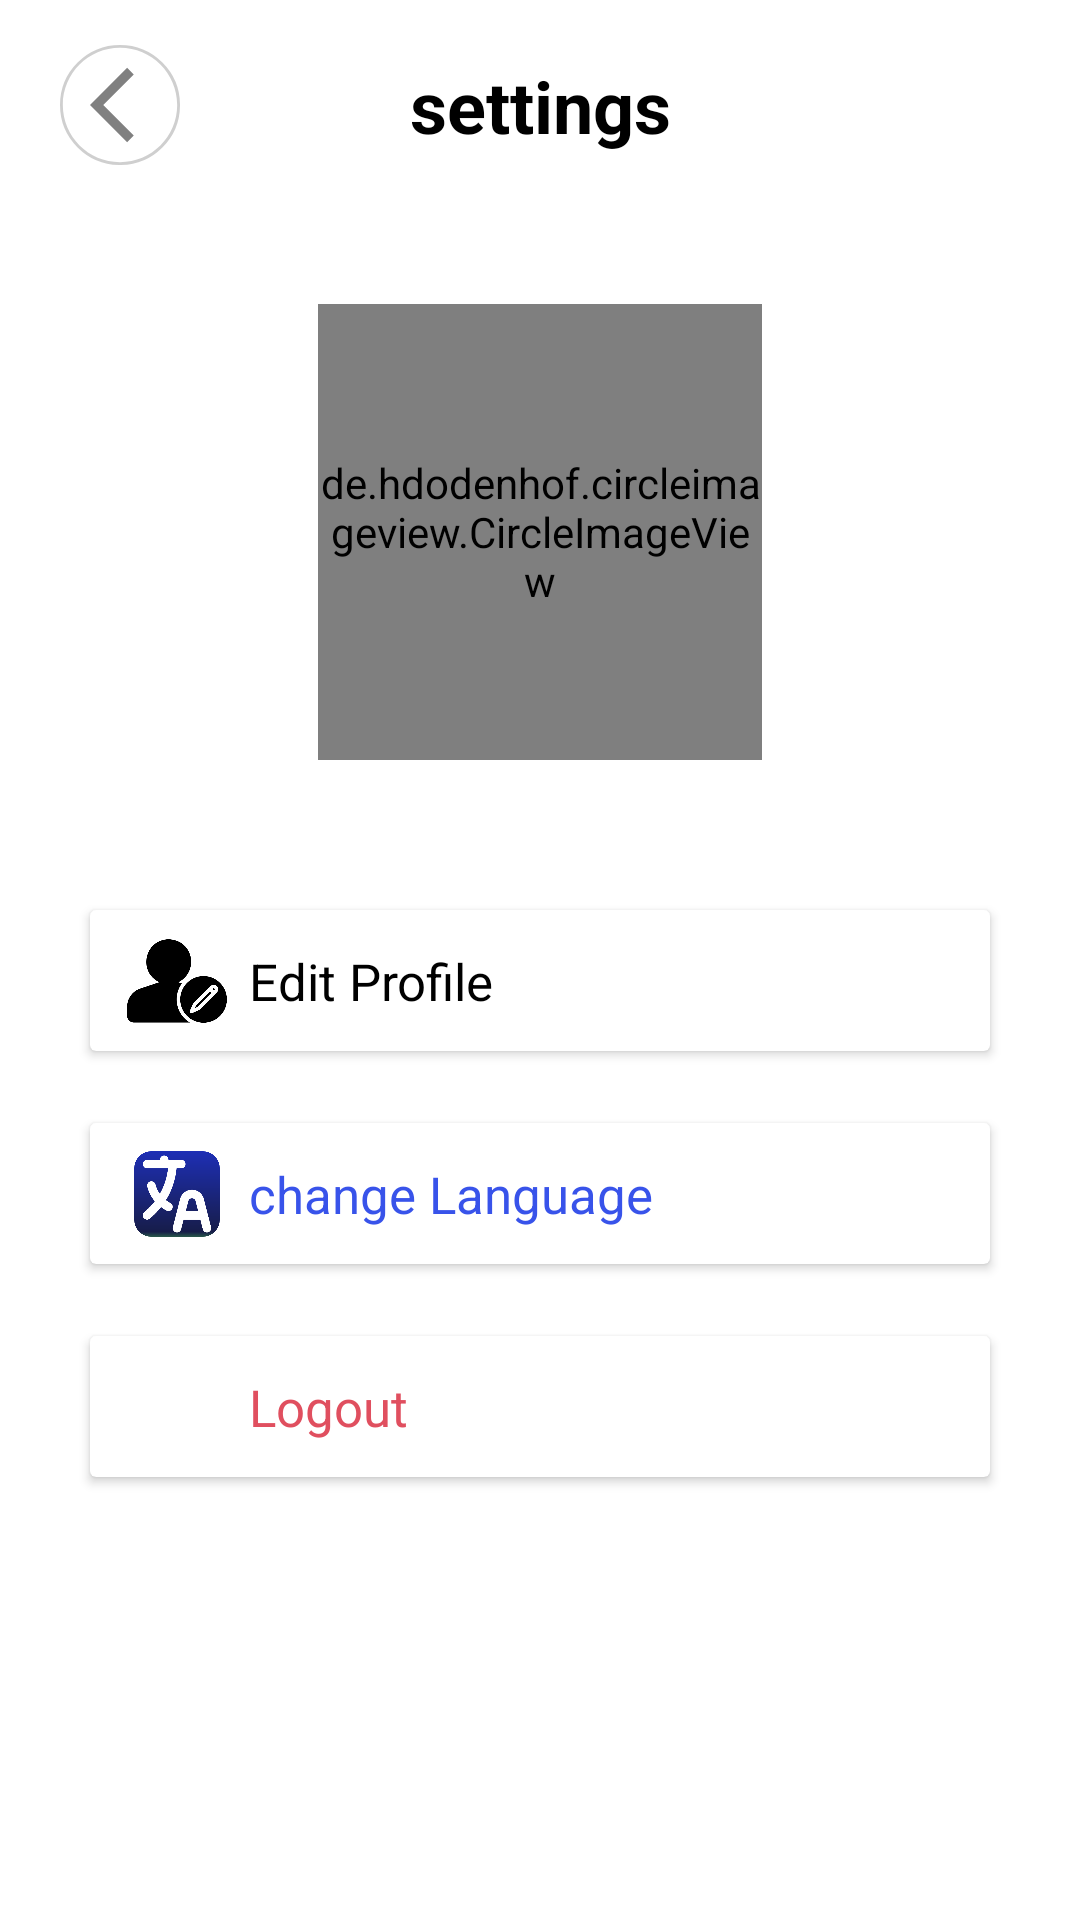

Icon bounding boxes for this 1080 x 1920 phone screenshot, format (x1=x1, y1=y1, x2=x2, y2=y2):
back: (x1=60, y1=45, x2=180, y2=165)
